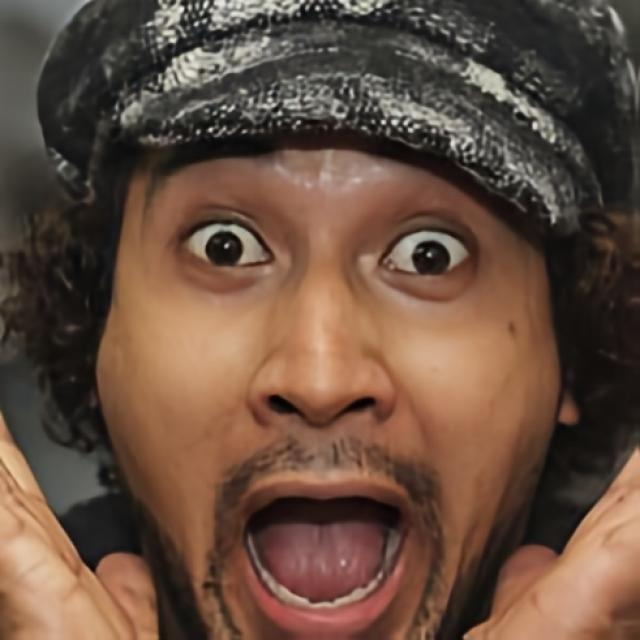fear: (94, 137, 562, 639)
